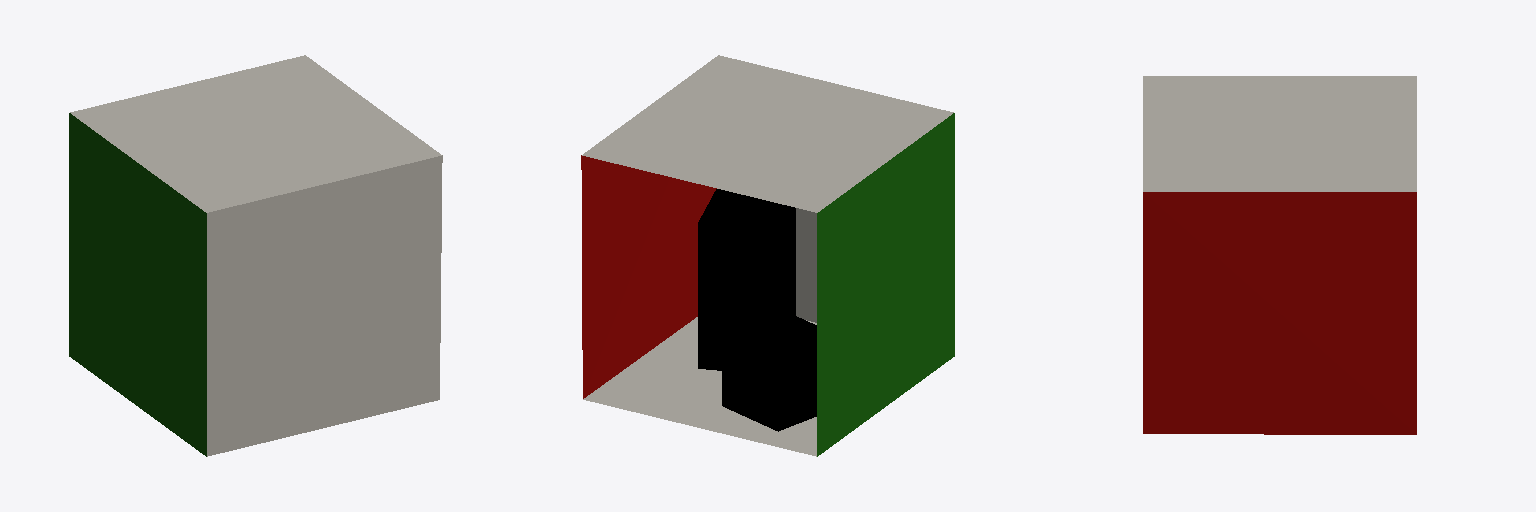
The model's file is cornell-complex.obj.
The picture shows the model from 3 angles: view 1: azimuth 30°, elevation 25°; view 2: azimuth 150°, elevation 25°; view 3: azimuth 270°, elevation 25°; orthographic projection.
Visible parts, largest first — view 1: floor, right; view 2: floor, right, left, tall-box, short-box; view 3: left, floor.
Part boxes in pixels (x1,y1,x2,y2): floor: (70, 55, 442, 456); right: (69, 113, 206, 456); floor: (582, 55, 953, 456); right: (817, 113, 954, 456); left: (581, 155, 716, 398); tall-box: (698, 189, 795, 370); short-box: (722, 310, 816, 431); left: (1143, 192, 1416, 434); floor: (1143, 76, 1416, 191).
Size of the model in its own units: 556 by 549 by 559.